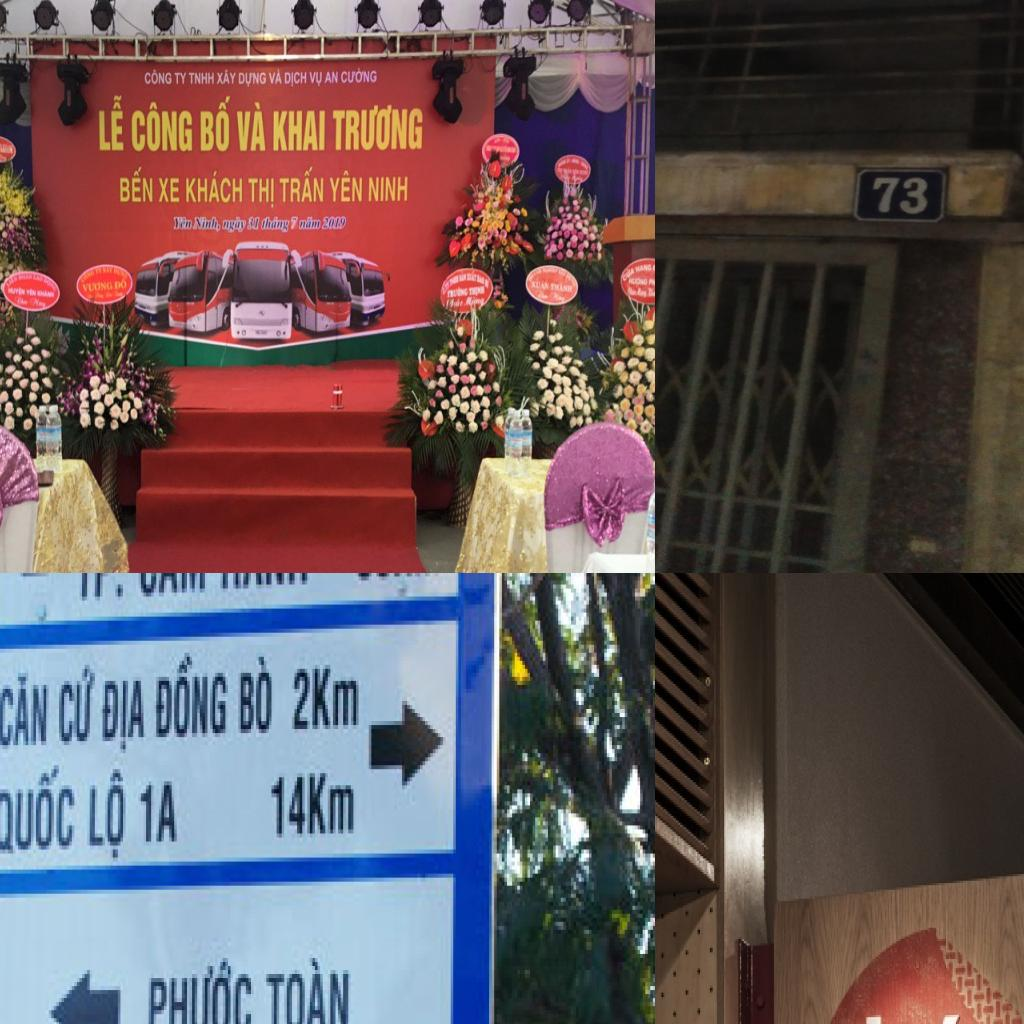text: (146, 949, 253, 1024), (0, 761, 79, 861), (853, 977, 1015, 1024), (154, 649, 230, 745), (85, 769, 133, 862), (332, 105, 424, 153), (0, 668, 51, 753), (100, 673, 149, 757), (230, 653, 276, 741), (312, 661, 364, 733), (304, 769, 358, 838), (54, 661, 97, 745), (129, 104, 195, 155), (138, 773, 180, 850), (269, 773, 307, 842), (272, 110, 328, 155), (217, 573, 312, 596), (184, 170, 244, 206), (133, 573, 212, 600), (198, 94, 232, 155), (278, 165, 327, 205), (96, 94, 128, 153), (235, 102, 268, 153), (116, 166, 155, 207), (290, 665, 312, 737), (76, 573, 115, 608), (368, 174, 410, 206), (328, 171, 364, 205), (247, 174, 276, 212), (156, 176, 182, 206), (340, 66, 378, 86), (236, 69, 266, 90), (322, 215, 351, 234), (82, 278, 113, 294), (142, 68, 172, 84), (193, 215, 221, 232), (262, 215, 290, 232), (222, 215, 248, 233), (190, 72, 216, 89), (550, 282, 576, 299), (112, 580, 130, 604), (297, 215, 322, 232), (285, 71, 308, 89), (170, 216, 192, 233), (216, 69, 236, 86), (247, 215, 263, 234), (620, 266, 636, 285), (446, 286, 469, 299), (528, 278, 552, 289), (268, 66, 282, 84), (36, 288, 57, 300), (325, 71, 340, 86), (310, 71, 324, 87), (4, 286, 26, 296), (632, 262, 652, 273), (468, 284, 486, 295), (173, 71, 187, 85), (290, 213, 300, 232), (24, 286, 38, 297), (114, 281, 129, 291), (651, 259, 655, 274)
